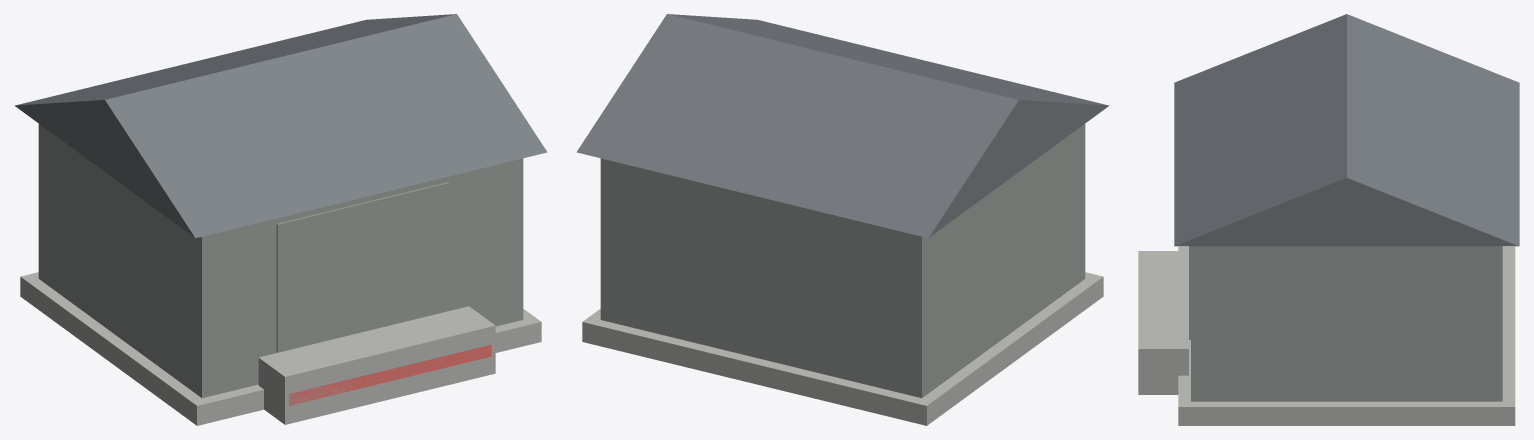
File: tractor_garage.glb
3 views of the same model, side by side, from view 1: azimuth 30°, elevation 25°; view 2: azimuth 150°, elevation 25°; view 3: azimuth 270°, elevation 25° (orthographic). The views are drawn at different scales.
Visible parts, largest first — view 1: tractor_garage; view 2: tractor_garage; view 3: tractor_garage.
Boxes of the visible parts, x1,y1,x2,y2 form: tractor_garage: (15, 14, 547, 425); tractor_garage: (576, 14, 1108, 425); tractor_garage: (1138, 14, 1519, 425).
Bounding box in the file's own units: 9.2 × 6.55 × 9.05.
